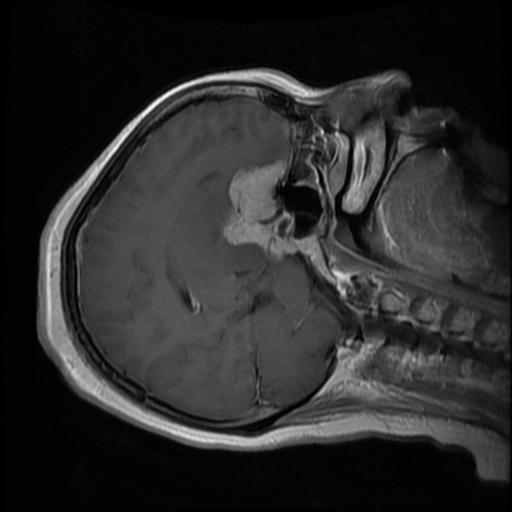meningioma: (222, 157, 294, 258)
